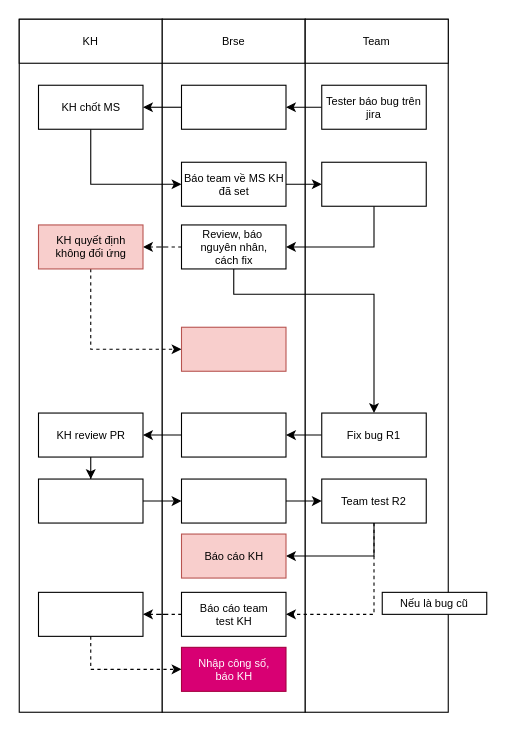
This 506x732 diagram has some shape labels left out. The shapes that lost their labels are listed below. From the top down, each one's centre as x and y in pixels, then its label:
(233,106): Báo bug trên backlog
(373,183): Điều tra nguyên nhân, cách fix
(233,348): Close bug trên jira
(233,434): Tạo PR bên KH
(90,500): KH merge code
(233,500): Báo về team
(90,613): KH test
